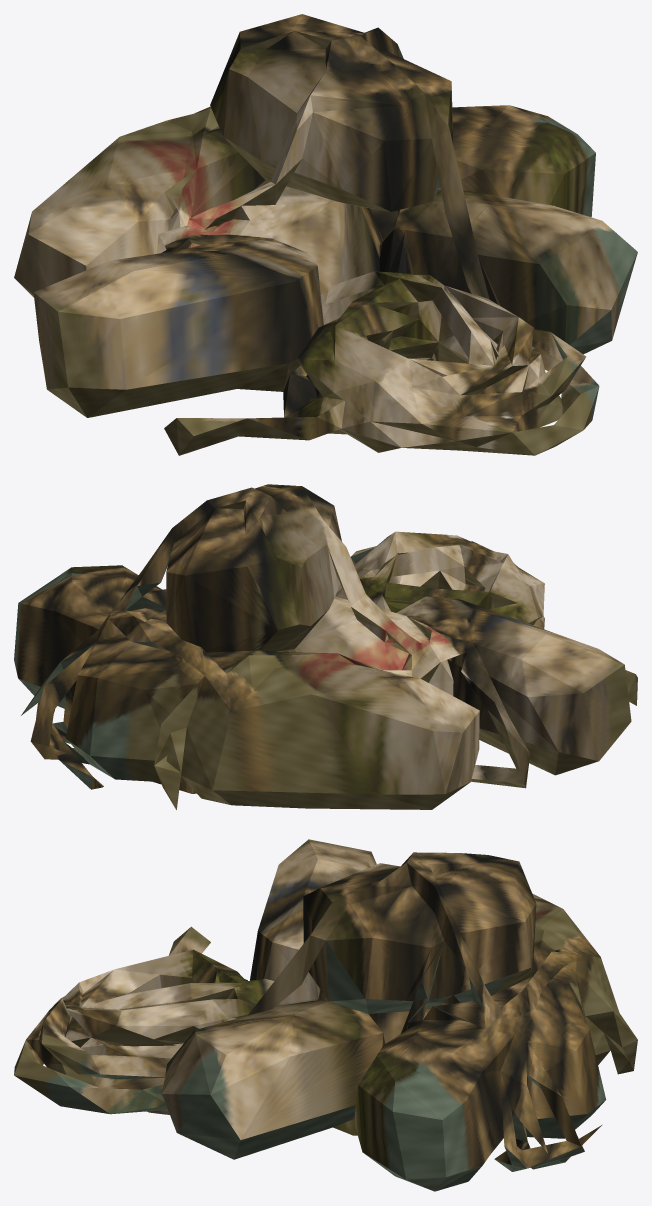
The model's file is buoy_pile_reduced.glb.
The picture shows the model from 3 angles, top to bottom: view 1: azimuth 30°, elevation 25°; view 2: azimuth 150°, elevation 25°; view 3: azimuth 270°, elevation 25°; orthographic projection. The views are drawn at different scales.
Parts seen in each view (by area): view 1: CoveredSurface; view 2: CoveredSurface; view 3: CoveredSurface.
Part boxes in pixels (x1,y1,x2,y2): CoveredSurface: [14, 14, 637, 455]; CoveredSurface: [14, 484, 637, 809]; CoveredSurface: [14, 839, 637, 1191].
Size of the model in its own units: 1.96 by 0.9105 by 1.97.
Materials: 1 (1 with a texture image).
